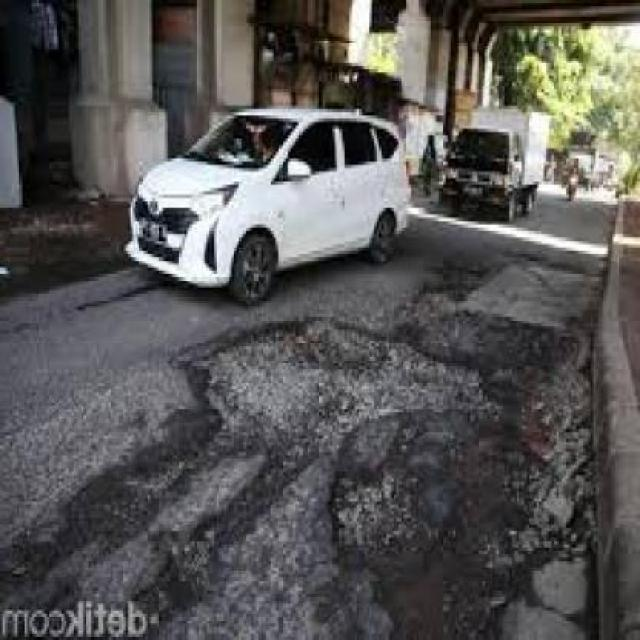pothole: (182, 303, 510, 452), (327, 454, 445, 558)
